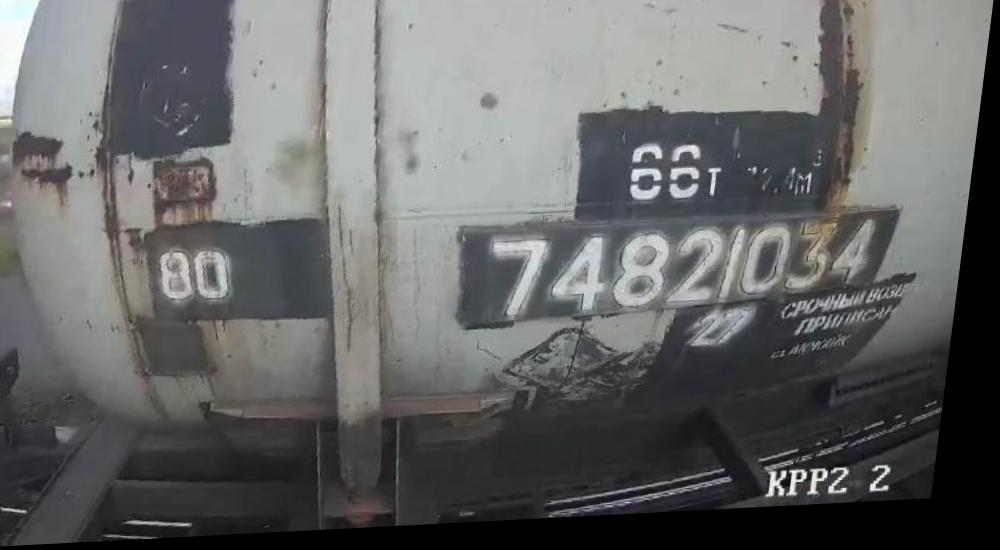Wagon-number: (485, 222, 885, 326)
